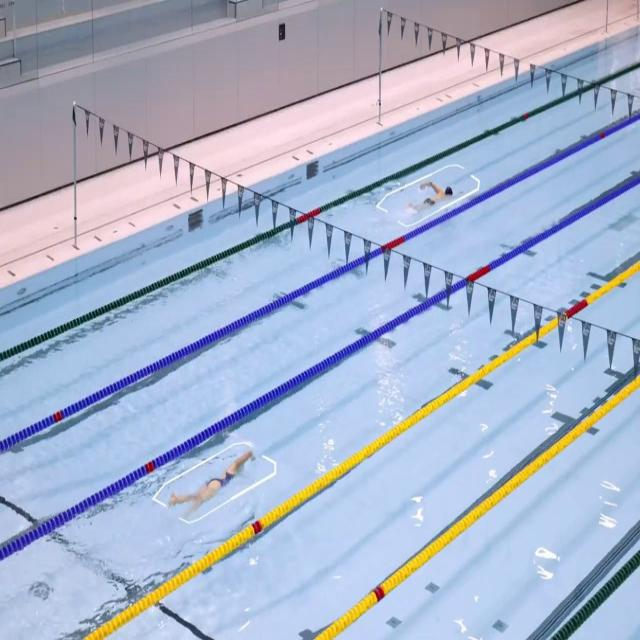Swimming: (168, 449, 258, 520), (407, 180, 463, 220)
